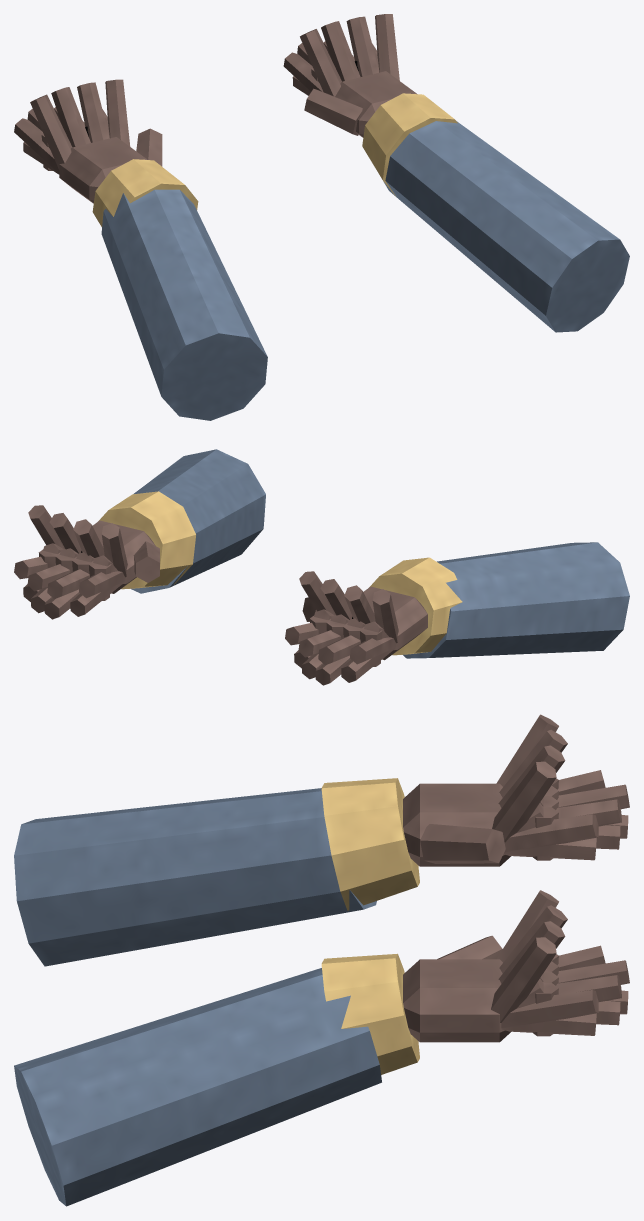
The model's file is fp_arms.glb.
The picture shows the model from 3 angles, top to bottom: view 1: azimuth 30°, elevation 25°; view 2: azimuth 150°, elevation 25°; view 3: azimuth 270°, elevation 25°; orthographic projection. The views are drawn at different scales.
Parts seen in each view (by area): view 1: Cast, OpenPalm; view 2: Cast, OpenPalm, PalmDown, Fist; view 3: Cast, OpenPalm, PalmDown, Fist.
Part boxes in pixels (x1,y1,x2,y2): Cast: (14,41,629,420); OpenPalm: (30,14,399,169); Cast: (14,449,629,665); OpenPalm: (28,505,398,643); PalmDown: (23,582,395,685); Fist: (38,543,388,666); Cast: (14,770,629,1206); OpenPalm: (491,714,567,1022); PalmDown: (502,815,628,1035); Fist: (516,778,558,1036).
Size of the model in its own units: 0.899 by 0.3511 by 0.7706.
3 materials, 3 textured.
